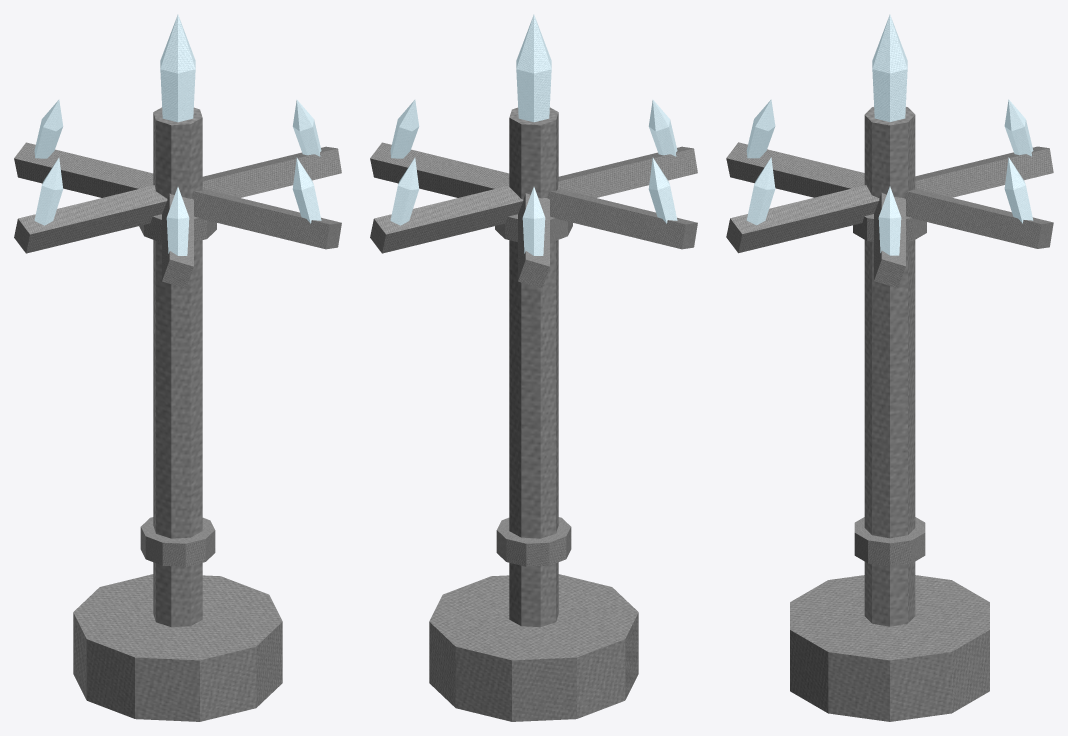
The model's file is decor-crystal-coat-rack.glb.
3 views of the same model, side by side, from view 1: azimuth 30°, elevation 25°; view 2: azimuth 150°, elevation 25°; view 3: azimuth 270°, elevation 25° (orthographic).
Parts seen in each view (by area): view 1: base, shaft, hook-3, hook-1, hook-4, hook-0, crown, lower-collar, hook-2, hook-crystal-2, hook-crystal-3, hook-crystal-1 (+3 smaller); view 2: base, shaft, hook-5, hook-3, hook-0, hook-2, crown, lower-collar, hook-4, hook-crystal-4, hook-crystal-5, hook-crystal-3 (+3 smaller); view 3: base, shaft, hook-1, hook-5, hook-2, hook-4, crown, lower-collar, hook-0, hook-crystal-0, hook-crystal-1, hook-crystal-5 (+3 smaller).
Part boxes in pixels (x1,y1,x2,y2): base: (73,574,282,721); shaft: (153,107,202,627); hook-3: (14,185,167,253); hook-1: (192,189,341,249); hook-4: (14,142,153,197); hook-0: (202,146,341,197); crown: (160,14,195,122); lower-collar: (140,517,215,566); hook-2: (162,193,193,288); hook-crystal-2: (166,187,189,255); hook-crystal-3: (34,157,63,225); hook-crystal-1: (292,157,321,223); base: (429,574,638,721); shaft: (509,107,558,627); hook-5: (370,185,523,253); hook-3: (547,189,697,249); hook-0: (370,142,509,197); hook-2: (558,146,697,197); crown: (516,14,551,122); lower-collar: (496,517,571,566); hook-4: (518,193,549,288); hook-crystal-4: (522,187,545,255); hook-crystal-5: (390,157,419,225); hook-crystal-3: (648,157,677,223); base: (790,575,989,721); shaft: (864,107,915,626); hook-1: (726,185,879,253); hook-5: (903,189,1053,248); hook-2: (726,142,864,197); hook-4: (915,146,1053,197); crown: (872,14,907,121); lower-collar: (854,517,925,566); hook-0: (874,193,905,287); hook-crystal-0: (878,186,901,255); hook-crystal-1: (746,157,775,225); hook-crystal-5: (1004,157,1033,223).
Size of the model in its own units: 1.06 by 2.16 by 0.9652.
7 materials, 7 textured.
